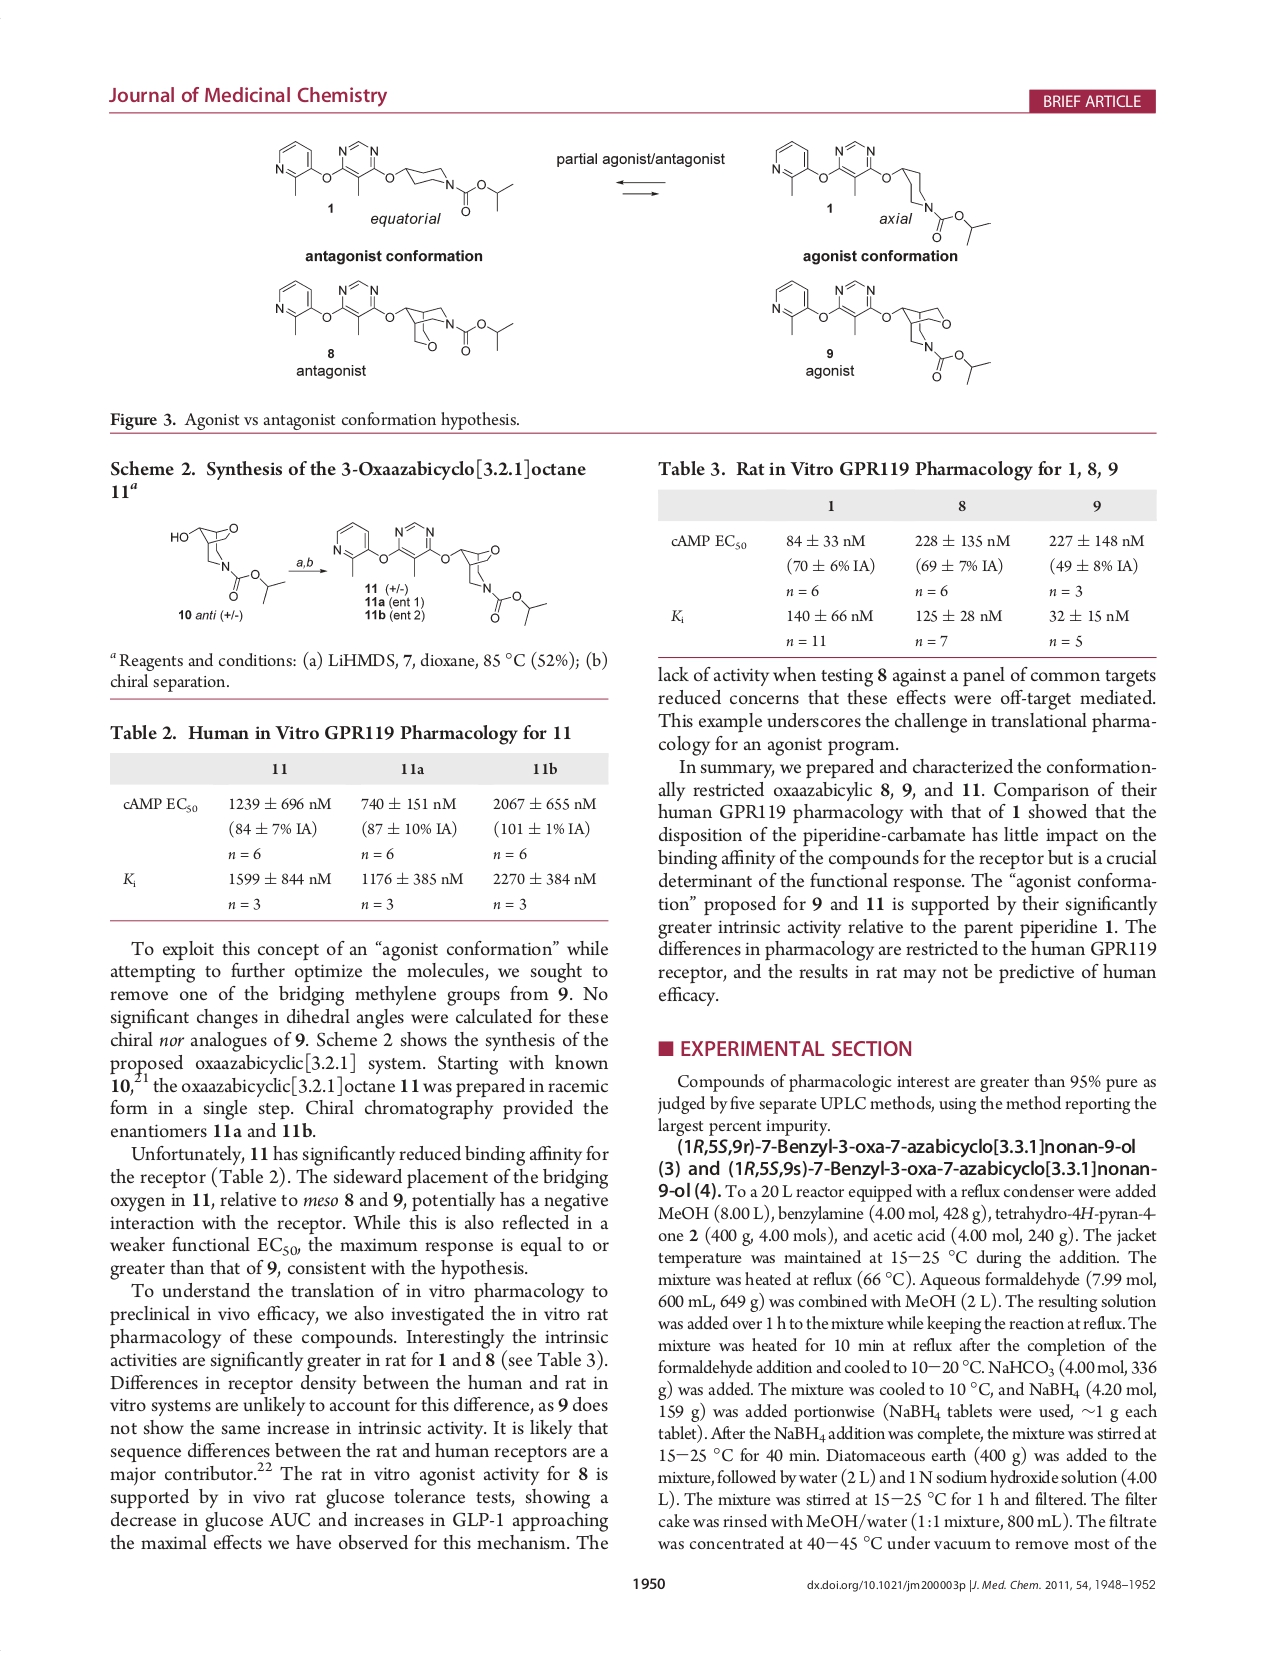exist_molecular: (765, 277, 995, 388), (766, 136, 992, 247), (328, 516, 548, 628), (269, 274, 516, 359), (269, 137, 515, 217), (164, 521, 289, 606)
